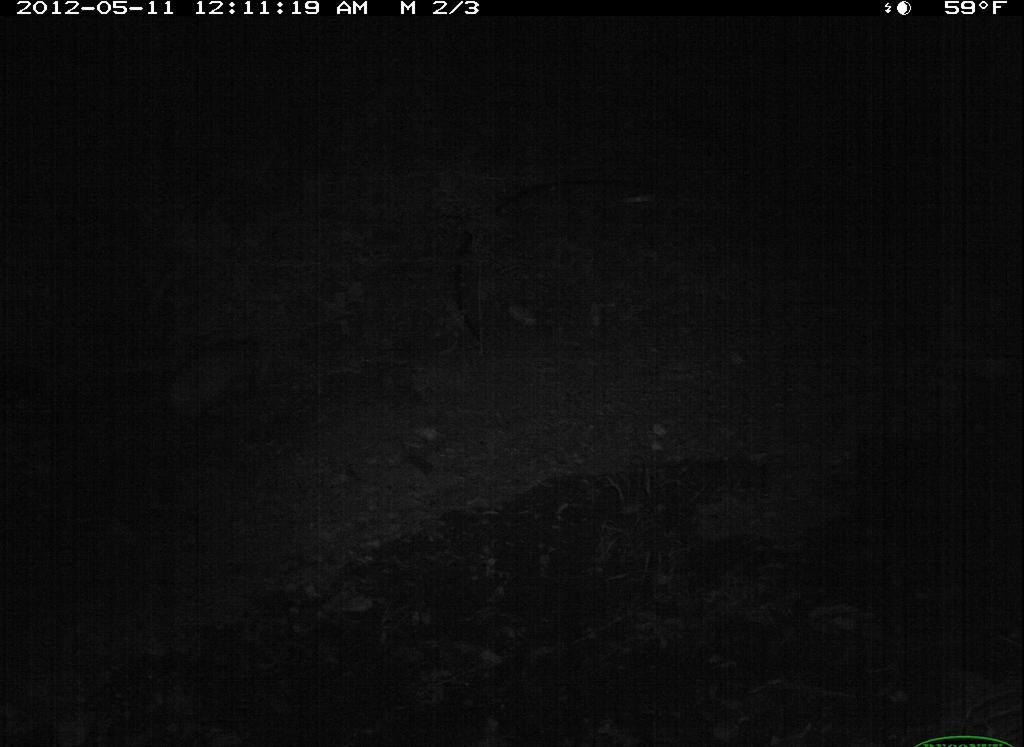opossum: (107, 328, 315, 431)
